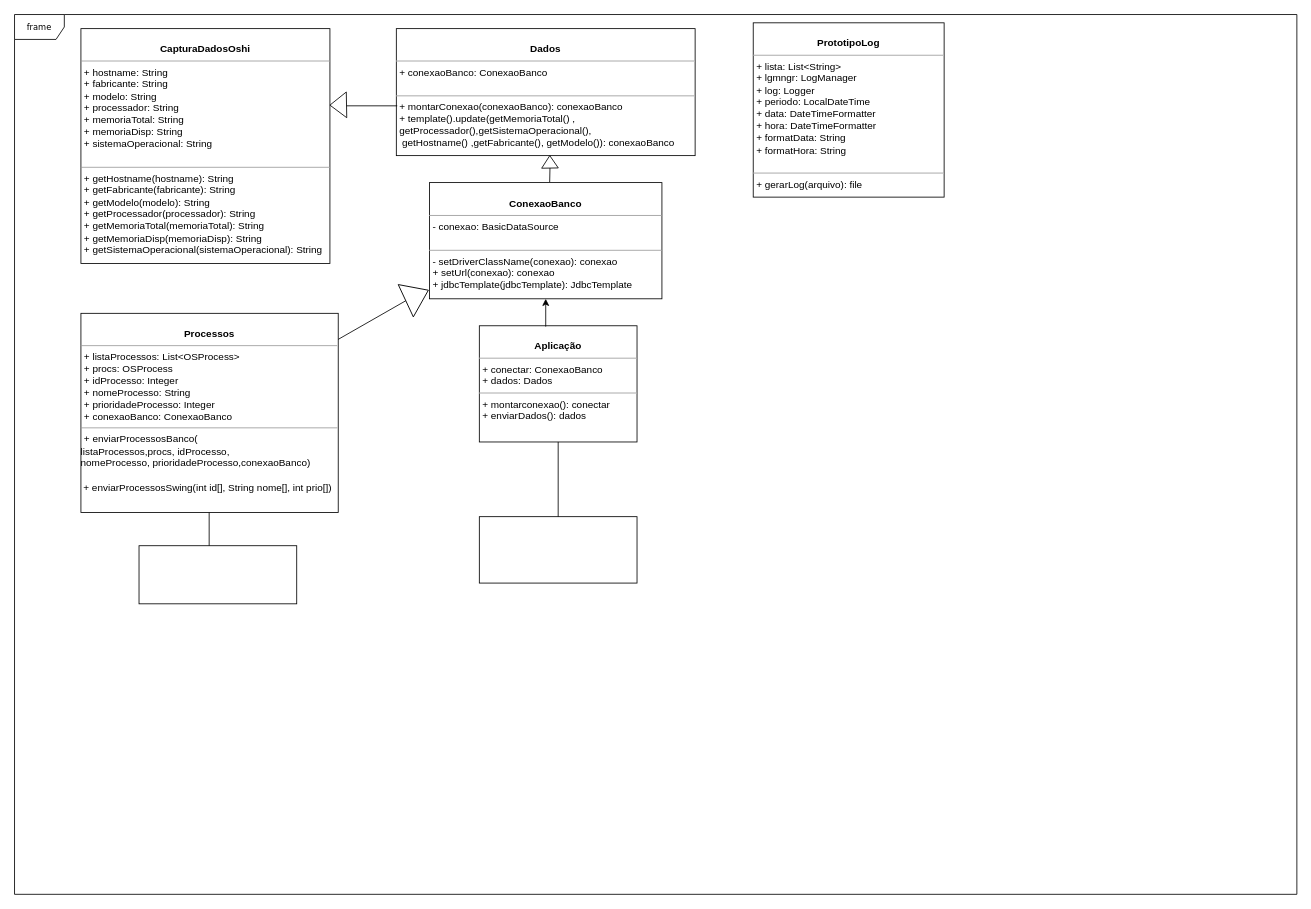
The diagram is 1311 pixels wide and 909 high, and some of its shapes have lost their labels. The shapes that lost their labels are listed below. From the top down, each one's centre as x and y in pixels, then its label:
At (x=557, y=549): "ExecutarAplicacao + main(executar):Aplicacao".
At (x=217, y=574): "MatarProcessos + kill(String processo): Boolean".
